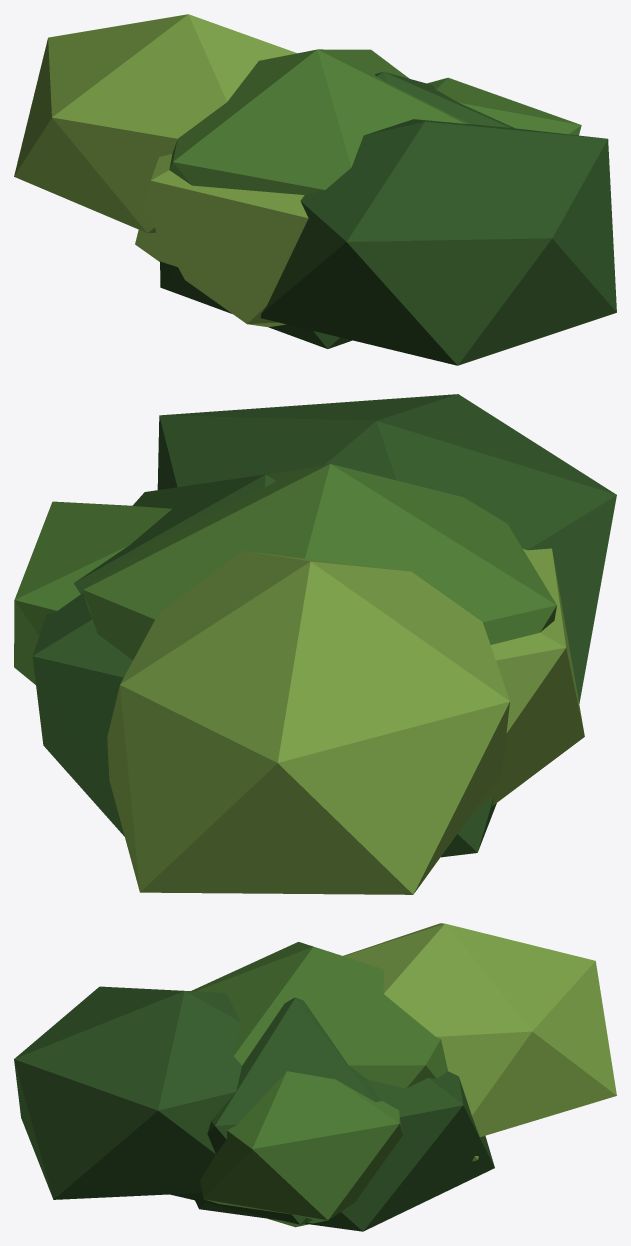
The model's file is UM_Busch_Breit.fbx.
3 views of the same model, one above another, from view 1: azimuth 30°, elevation 25°; view 2: azimuth 150°, elevation 25°; view 3: azimuth 270°, elevation 25° (orthographic). The views are drawn at different scales.
Parts seen in each view (by area): view 1: UM_Busch_Breit; view 2: UM_Busch_Breit; view 3: UM_Busch_Breit.
Part boxes in pixels (left/top/right/bottom): UM_Busch_Breit: left=14, top=14, right=616, bottom=365; UM_Busch_Breit: left=14, top=394, right=616, bottom=894; UM_Busch_Breit: left=14, top=923, right=616, bottom=1231.
Bounding box in the file's own units: 2.48 × 1.59 × 3.3.
